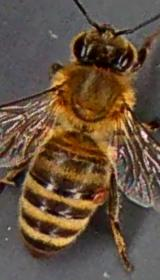varroa_mite: (86, 182, 110, 207)
